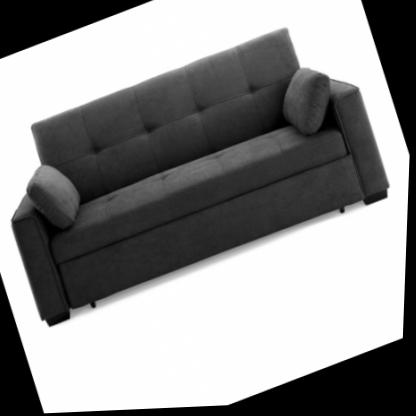Sofa: (0, 8, 401, 333)
